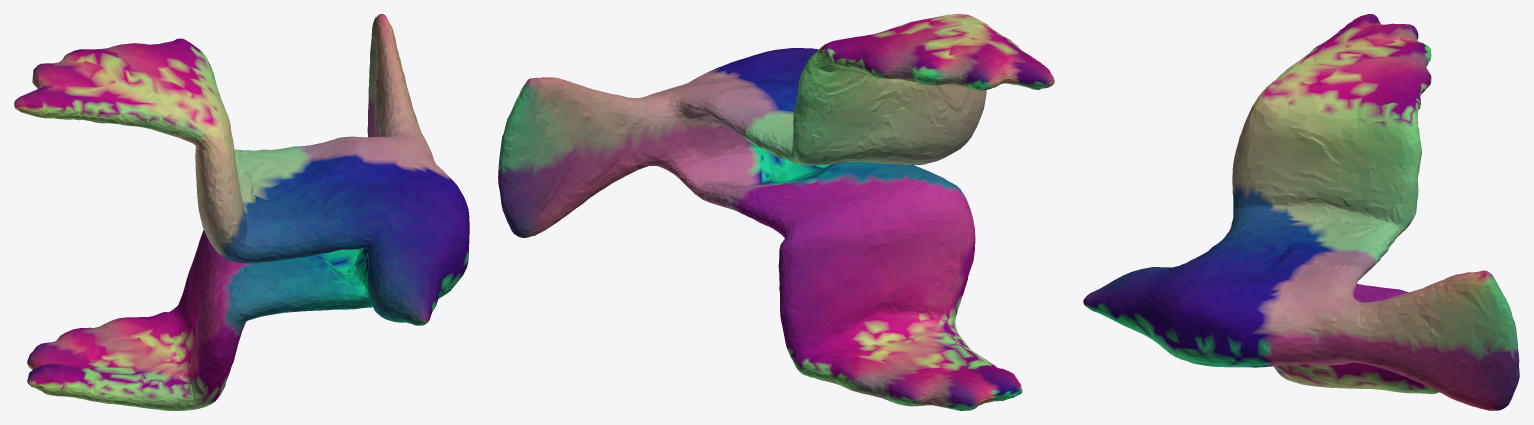
Rendered from bird1-6.off.obj.
3 renders of one model, left to right at view 1: azimuth 30°, elevation 25°; view 2: azimuth 150°, elevation 25°; view 3: azimuth 270°, elevation 25°, orthographic. The views are drawn at different scales.
Size of the model in its own units: 1.46 by 1.04 by 1.3.
